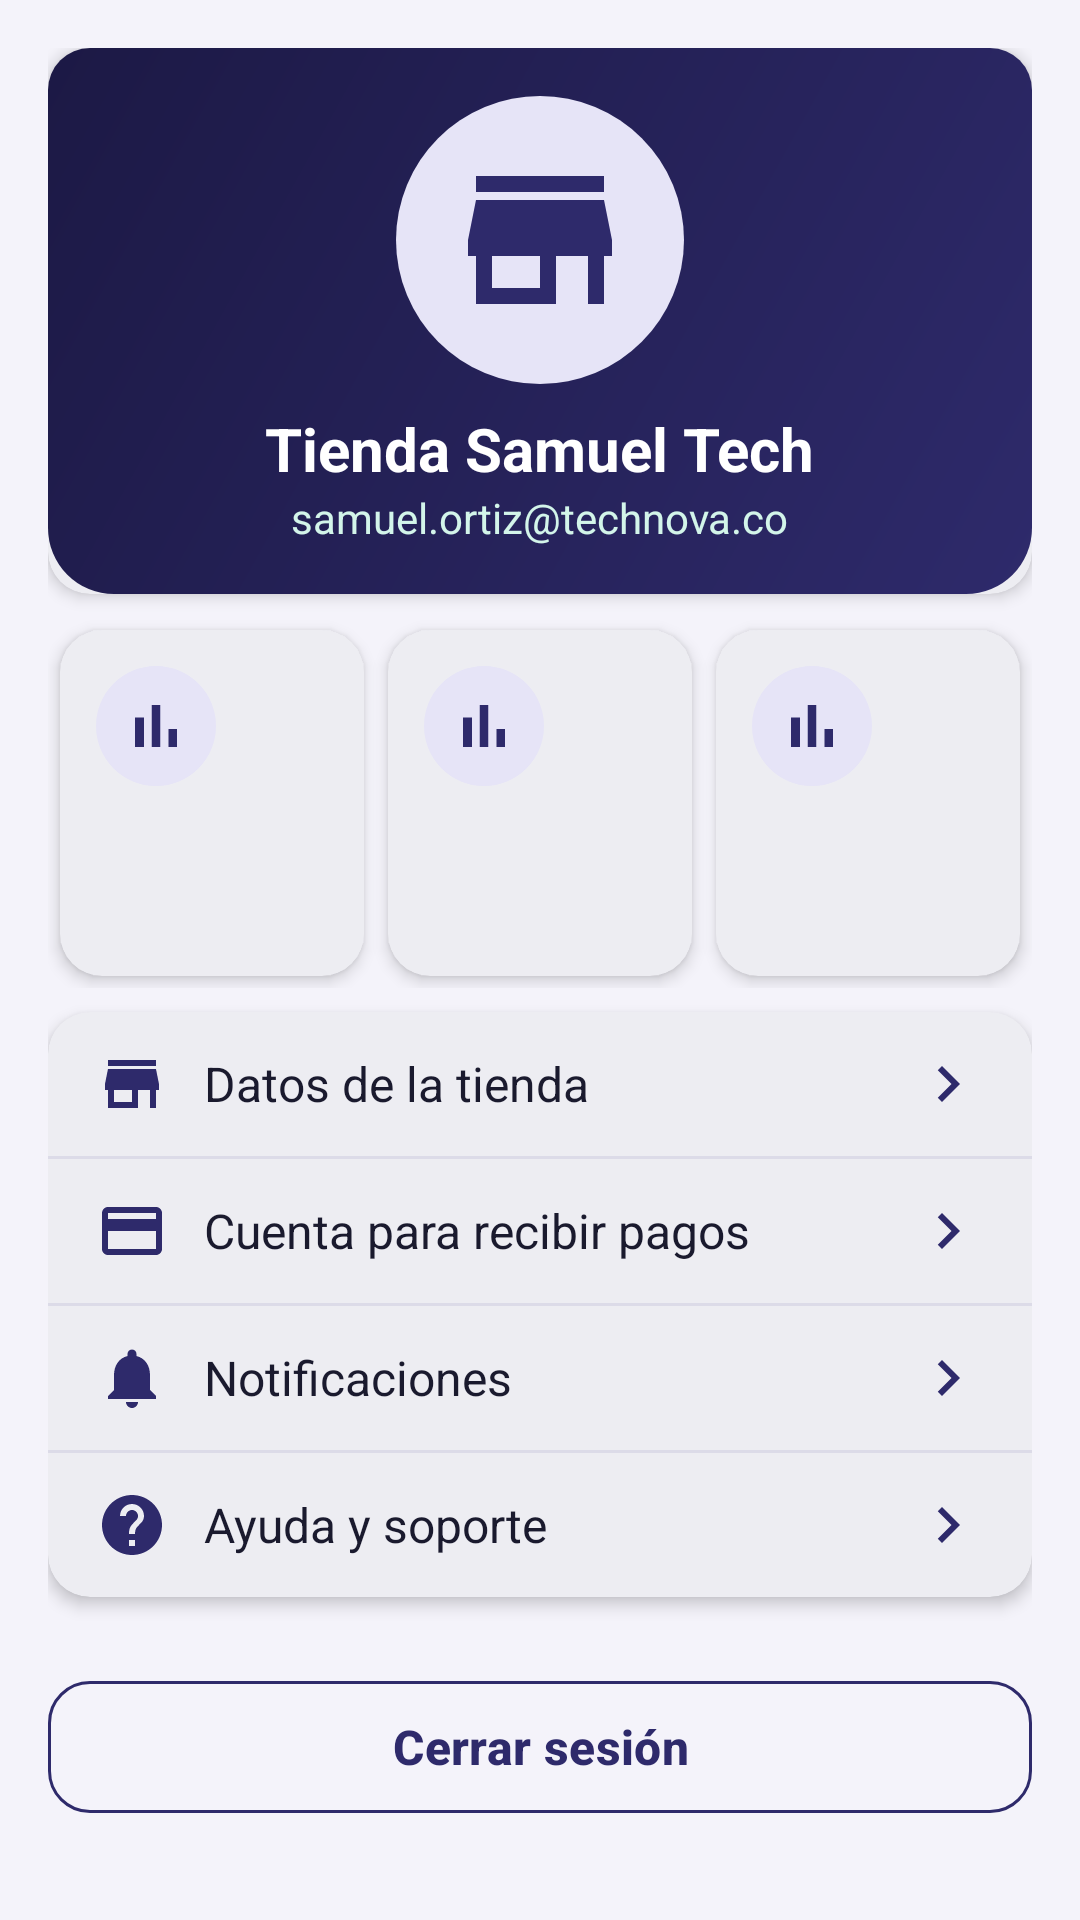

Named icons in this screenshot (1080px×1920px) and their bounding boxes, (x1, y1, x2, y2):
chart: (96, 666, 216, 786), (424, 666, 544, 786), (752, 666, 872, 786)
Foto de perfil: (396, 96, 684, 384)
